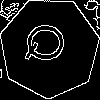Q: (24, 23, 73, 63)
